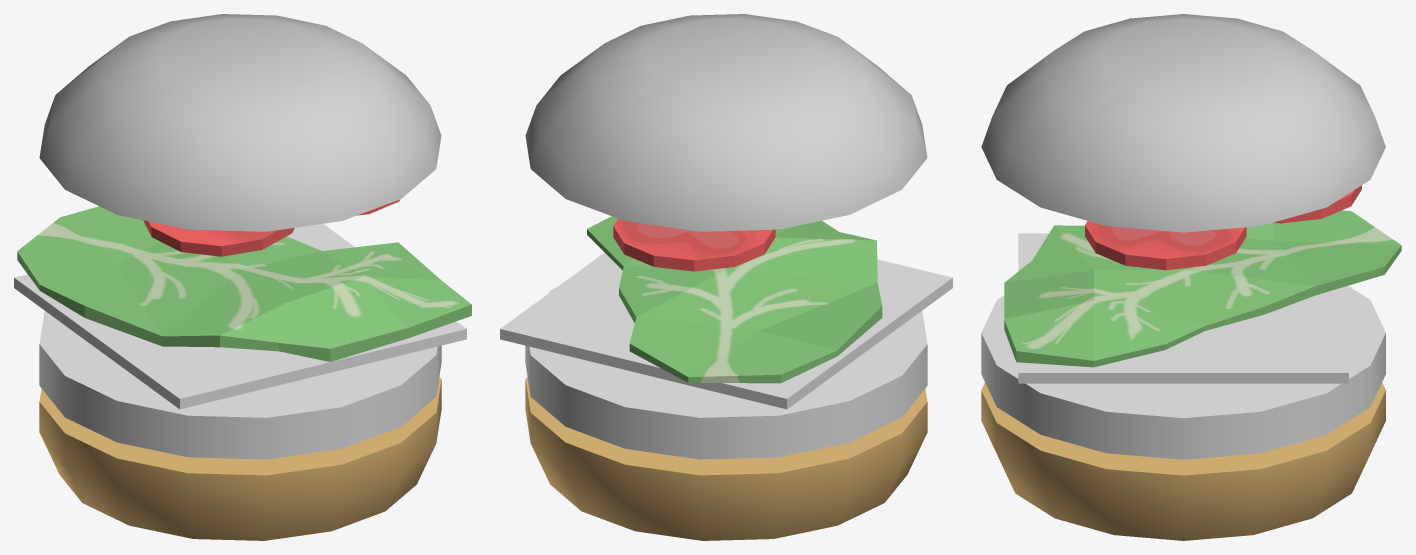
The model's file is Burger.fbx.
3 renders of one model, left to right at view 1: azimuth 30°, elevation 25°; view 2: azimuth 150°, elevation 25°; view 3: azimuth 270°, elevation 25°, orthographic.
Visible parts, largest first — view 1: BunTop, Lettuce, BunBottom, Burger, Cheese, Tomato; view 2: BunTop, Lettuce, BunBottom, Burger, Cheese, Tomato; view 3: BunTop, Lettuce, BunBottom, Burger, Cheese, Tomato.
Part boxes in pixels (box(x1,y1,x2,y2)): BunTop: box(39, 14, 441, 231); Lettuce: box(17, 206, 471, 361); BunBottom: box(39, 377, 441, 540); Burger: box(39, 311, 441, 459); Cheese: box(14, 224, 466, 409); Tomato: box(143, 199, 400, 256); BunTop: box(525, 14, 927, 231); Lettuce: box(587, 216, 882, 383); BunBottom: box(525, 377, 927, 540); Burger: box(525, 287, 927, 459); Cheese: box(500, 252, 952, 409); Tomato: box(613, 218, 775, 271); BunTop: box(981, 14, 1385, 232); Lettuce: box(1004, 210, 1401, 367); BunBottom: box(981, 382, 1385, 540); Burger: box(981, 286, 1385, 459); Cheese: box(1018, 233, 1348, 383); Tomato: box(1085, 185, 1361, 270).
Size of the model in its own units: 20 by 23.26 by 20.78.
